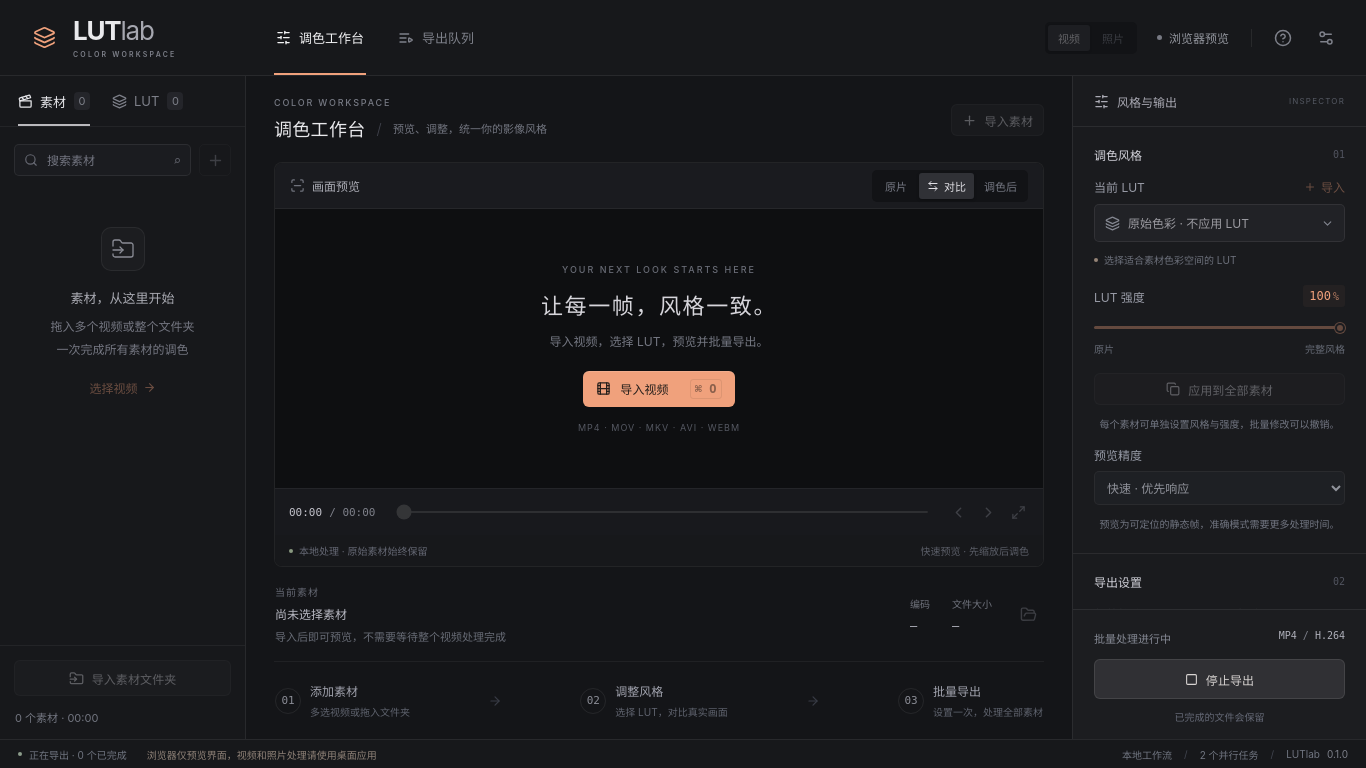
Scenario: disables language selection with an explanation while busy: {"isExporting":true,"loading":false}
This screenshot has width=1366, height=768.
Click the button named "应用设置": (1326, 38) [1311, 23, 1340, 52]
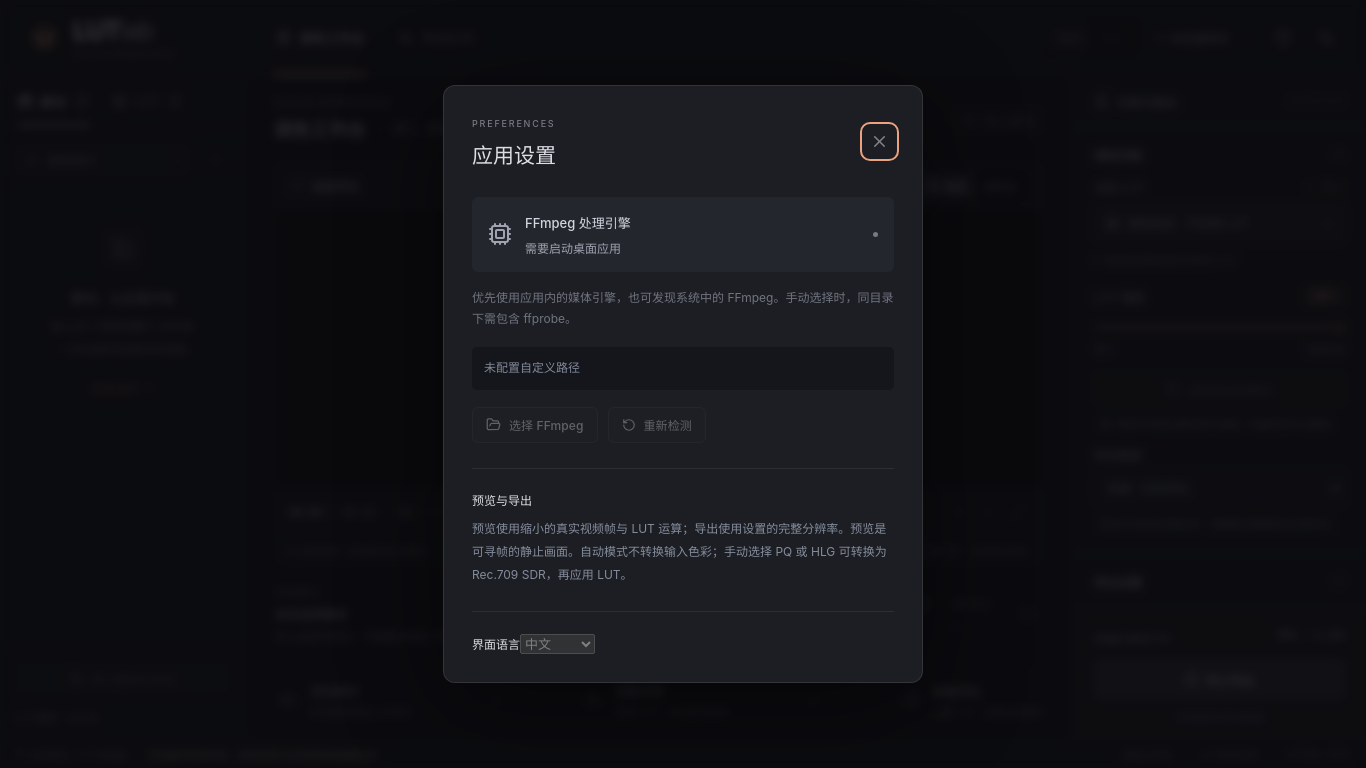
Check: the dropdown named "界面语言" is disabled, box [520, 634, 595, 654]
